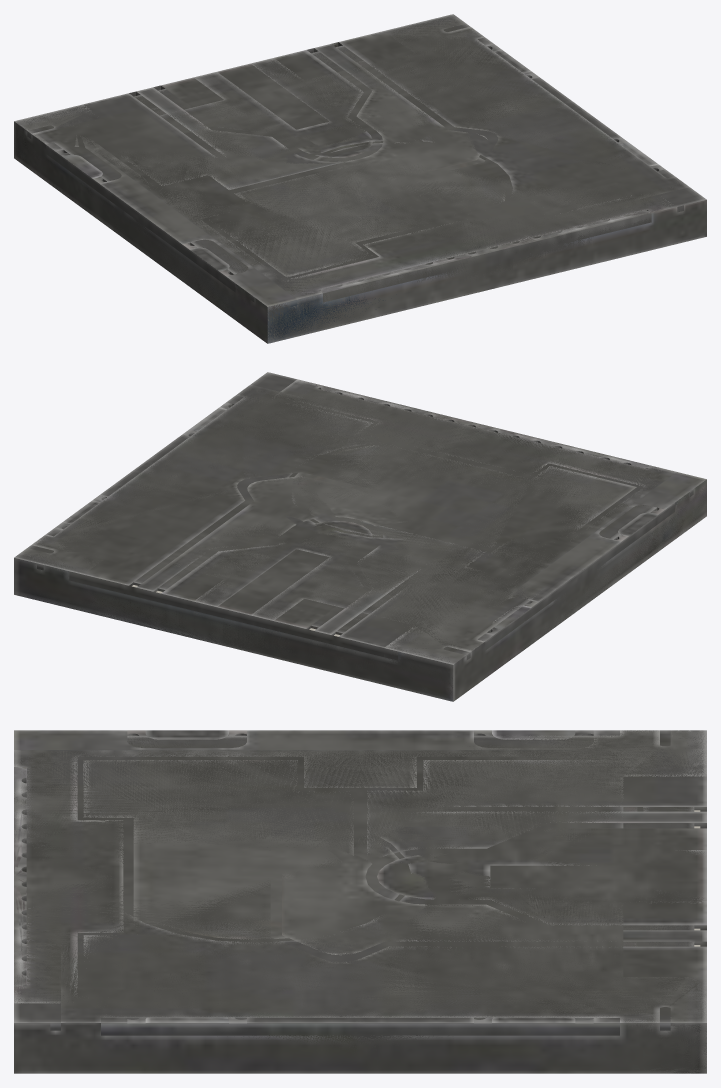
File: modular-sci-fi-floor.glb
3 renders of one model, top to bottom at view 1: azimuth 30°, elevation 25°; view 2: azimuth 150°, elevation 25°; view 3: azimuth 270°, elevation 25°, orthographic. The views are drawn at different scales.
Visible parts, largest first — view 1: Cube_018__0, Cube_000__0, Cube_012__0, Cube_013__0; view 2: Cube_018__0, Cube_012__0, Cube_000__0, Cube_013__0; view 3: Cube_000__0, Cube_018__0, Cube_013__0, Cube_012__0.
Part boxes in pixels (x1,y1,x2,y2): Cube_018__0: [14, 14, 688, 340]; Cube_000__0: [14, 14, 688, 343]; Cube_012__0: [27, 44, 706, 343]; Cube_013__0: [28, 24, 706, 343]; Cube_018__0: [14, 385, 706, 700]; Cube_012__0: [14, 379, 693, 666]; Cube_000__0: [16, 384, 706, 701]; Cube_013__0: [14, 372, 706, 676]; Cube_000__0: [14, 730, 706, 1073]; Cube_018__0: [14, 730, 706, 1073]; Cube_013__0: [14, 730, 694, 1023]; Cube_012__0: [14, 730, 694, 1052].
Size of the model in its own units: 2 by 0.161 by 2.
1 material, 1 textured.
